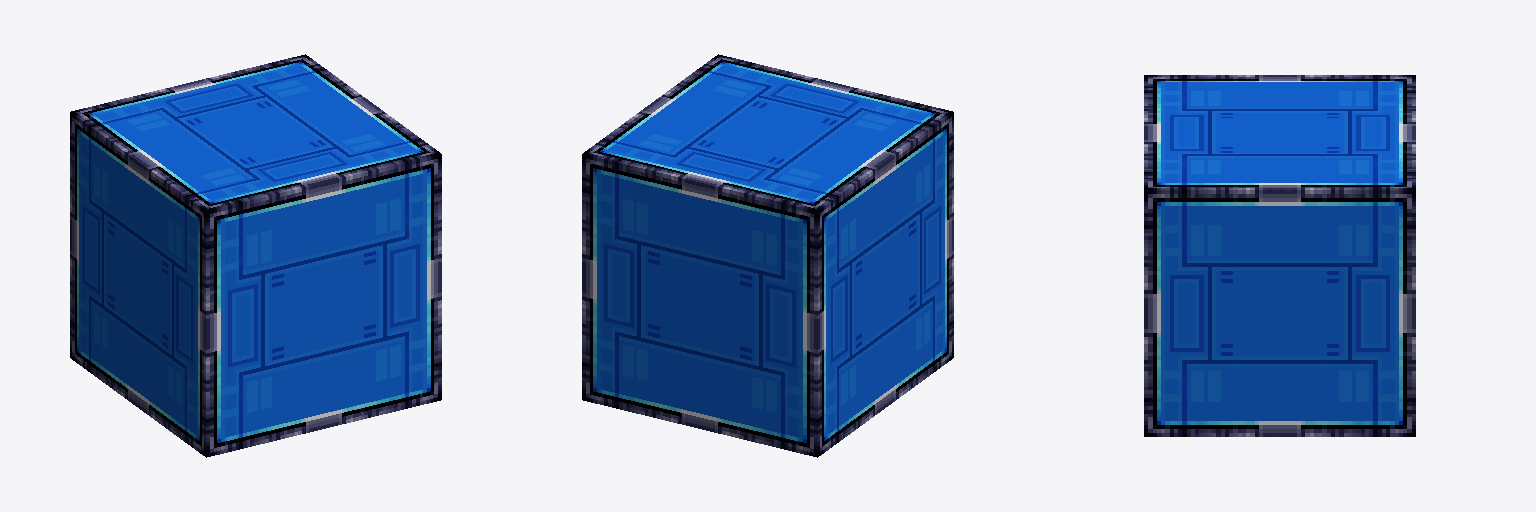
3 renders of one model, left to right at view 1: azimuth 30°, elevation 25°; view 2: azimuth 150°, elevation 25°; view 3: azimuth 270°, elevation 25°, orthographic.
Visible parts, largest first — view 1: Cube; view 2: Cube; view 3: Cube.
Boxes of the visible parts, box(x1,y1,x2,y2) form: Cube: box(70, 54, 441, 457); Cube: box(582, 54, 953, 457); Cube: box(1144, 75, 1415, 436).
Size of the model in its own units: 2 by 2 by 2.
Materials: 1 (1 with a texture image).